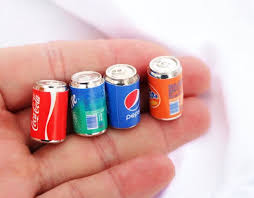can: (27, 55, 187, 148)
